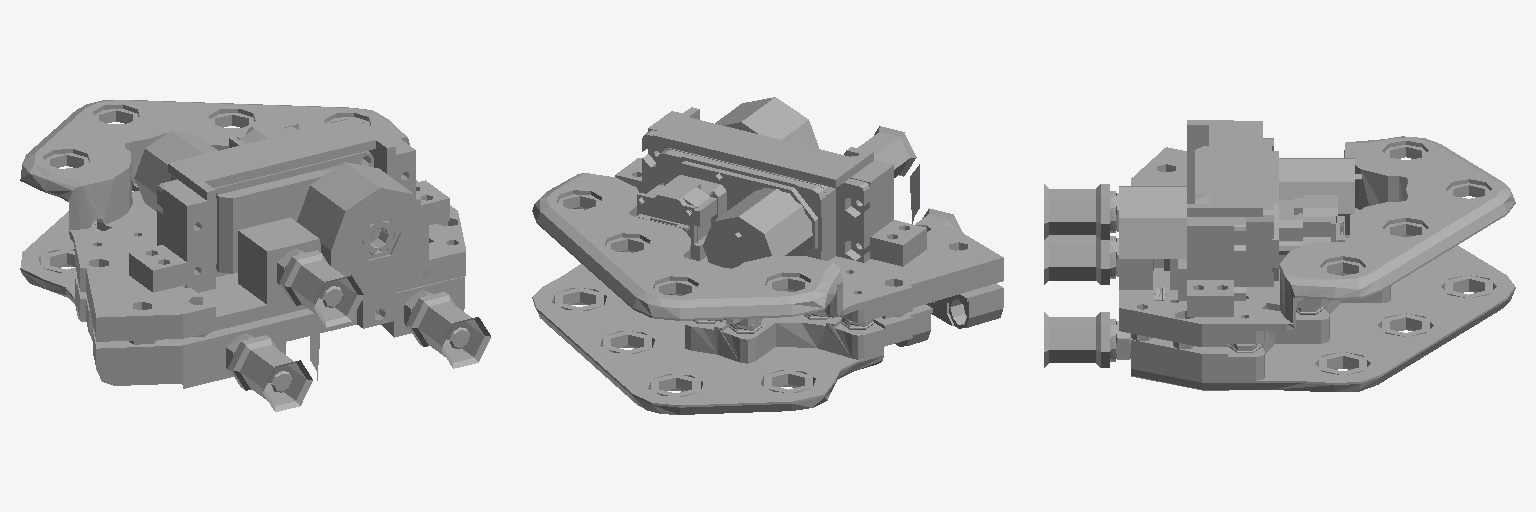
The robot description file, URDF, robot "complete_soft_hand":
<?xml version="1.0" ?>
<!-- =================================================================================== -->
<!-- |    This document was autogenerated by xacro from ../robot/hand_in_world.urdf.xacro | -->
<!-- |    EDITING THIS FILE BY HAND IS NOT RECOMMENDED                                 | -->
<!-- =================================================================================== -->
<robot name="complete_soft_hand" xmlns:xacro="http://ros.org/wiki/xacro">
  <material name="LightGrey">
    <color rgba="0.7 0.7 0.7 1.0"/>
  </material>
  <material name="DarkGrey">
    <color rgba="0.4 0.4 0.4 1.0"/>
  </material>
  <material name="Black">
    <color rgba="0.0 0.0 0.0 1.0"/>
  </material>
  <material name="DarkGolden">
    <color rgba="0.4 0.4 0.3 1.0"/>
  </material>
  <material name="Blue">
    <color rgba="0.0 0.0 0.8 0.9"/>
  </material>
  <material name="LightBlue">
    <color rgba="0.0 0.4 1.0 0.5"/>
  </material>
  <link name="world">
    <!--     <visual>
      <origin xyz="0 0 0" rpy="0 0 0"/>
      <geometry>
        <box size="1 1 1.0"/>
      </geometry>
    </visual> -->
  </link>
  <joint name="hand_palm_joint" type="fixed">
    <origin rpy="0 0 0" xyz="0 0 0"/>
    <parent link="world"/>
    <child link="hand_palm_link"/>
    <!-- <axis xyz="0 1 0" /> -->
    <!-- <limit lower="${-90*pi/180}" upper="${90*pi/180}" effort="${effort}" velocity="${velocity}"/> -->
  </joint>
  <link name="hand_palm_link">
    <visual>
      <origin rpy="0 0 0" xyz="0 0 0"/>
      <geometry>
        <!-- <mesh filename="package://complete_soft_hand/meshes/palm_hand.stl" scale=" .001 .001 .001" /> -->
        <mesh filename="package://complete_soft_hand/meshes/palm_hand2.stl" scale=" .001 .001 .001"/>
      </geometry>
      <material name="LightGrey"/>
    </visual>
  </link>
  <joint name="hand_thumb_abd_joint" type="revolute">
    <origin rpy="0 0 -0.43633181" xyz="-0.0418769 0.0538740 -0.00691972 "/>
    <parent link="hand_palm_link"/>
    <child link="hand_thumb_knuckle_link"/>
    <axis xyz="0 1 0"/>
    <limit effort="100" lower="-1.57079632679" upper="0.0" velocity="100"/>
  </joint>
  <link name="hand_thumb_knuckle_link">
    <visual>
      <origin rpy="0 0 0" xyz="0 0 0"/>
      <geometry>
        <mesh filename="package://complete_soft_hand/meshes/phalanx_thumb_injection.stl" scale=" .001 .001 .001"/>
      </geometry>
      <material name="DarkGolden"/>
    </visual>
  </link>
  <joint name="hand_thumb_inner_joint " type="revolute">
    <origin rpy="-1.9974238811 0 0" xyz="-0.0225 0 -0.0033"/>
    <parent link="hand_thumb_knuckle_link"/>
    <child link="hand_thumb_inner_link  "/>
    <axis xyz="0 1 0"/>
    <limit effort="100" lower="0.0" upper="0.785398163397" velocity="100"/>
  </joint>
  <link name="hand_thumb_inner_link  "> 
		</link>
  <joint name="hand_thumb_inner_joint" type="revolute">
    <origin rpy="0 0 0" xyz="-0.013 0 0"/>
    <parent link="hand_thumb_inner_link  "/>
    <child link="hand_thumb_proximal_link"/>
    <axis xyz="0 1 0"/>
    <mimic joint="hand_thumb_inner_joint " multiplier="1"/>
    <limit effort="100" lower="0.0" upper="0.785398163397" velocity="100"/>
  </joint>
  <link name="hand_thumb_proximal_link">
    <visual>
      <origin rpy="0 0 0" xyz="0 0 0"/>
      <geometry>
        <mesh filename="package://complete_soft_hand/meshes/phalanx_short_injection.stl" scale=" .001 .001 .001"/>
      </geometry>
      <material name="DarkGolden"/>
    </visual>
  </link>
  <joint name="hand_thumb_middle_joint  " type="revolute">
    <origin rpy="0 0 0" xyz="-0.009 0 0"/>
    <parent link="hand_thumb_proximal_link"/>
    <child link="hand_thumb_fake_link2"/>
    <axis xyz="0 1 0"/>
    <limit effort="100" lower="0.0" upper="0.785398163397" velocity="100"/>
  </joint>
  <link name="hand_thumb_fake_link2"> 
		</link>
  <joint name="hand_thumb_middle_joint" type="revolute">
    <origin rpy="0 0 0" xyz="-0.013 0 0"/>
    <parent link="hand_thumb_fake_link2"/>
    <child link="hand_thumb_middle_link"/>
    <axis xyz="0 1 0"/>
    <mimic joint="hand_thumb_middle_joint  " multiplier="1"/>
    <limit effort="100" lower="0.0" upper="0.785398163397" velocity="100"/>
  </joint>
  <link name="hand_thumb_middle_link">
    <visual>
      <origin rpy="0 0 0" xyz="0 0 0"/>
      <geometry>
        <mesh filename="package://complete_soft_hand/meshes/phalanx_short_injection.stl" scale=" .001 .001 .001"/>
      </geometry>
      <material name="DarkGolden"/>
    </visual>
  </link>
  <joint name="hand_thumb_outer_joint " type="revolute">
    <origin rpy="0 0 0" xyz="-0.009 0 0.0"/>
    <parent link="hand_thumb_middle_link"/>
    <child link="hand_thumb_fake_link3"/>
    <axis xyz="0 1 0"/>
    <limit effort="100" lower="0.0" upper="0.785398163397" velocity="100"/>
  </joint>
  <link name="hand_thumb_fake_link3"> 
		</link>
  <joint name="hand_thumb_outer_joint" type="revolute">
    <origin rpy="0 0 0" xyz="-0.013 0 0"/>
    <parent link="hand_thumb_fake_link3"/>
    <child link="hand_thumb_distal_link"/>
    <axis xyz="0 1 0"/>
    <mimic joint="hand_thumb_outer_joint " multiplier="1"/>
    <limit effort="100" lower="0.0" upper="0.785398163397" velocity="100"/>
  </joint>
  <link name="hand_thumb_distal_link">
    <visual>
      <origin rpy="0 0 0" xyz="0 0 0"/>
      <geometry>
        <mesh filename="package://complete_soft_hand/meshes/phalanx_distal_out_no_ati.stl" scale=" .001 .001 .001"/>
      </geometry>
      <material name="DarkGolden"/>
    </visual>
  </link>
  <joint name="hand_index_abd_joint" type="revolute">
    <origin rpy="3.14159265359 0 -1.2217304764" xyz="-0.0285 0.0943918 0.00205"/>
    <parent link="hand_palm_link"/>
    <child link="hand_index_knuckle_link"/>
    <axis xyz="0 0 1"/>
    <limit effort="100" lower="-0.523598775598" upper="0.785398163397" velocity="100"/>
  </joint>
  <link name="hand_index_knuckle_link">
    <visual>
      <origin rpy="0 0 0" xyz="0 0 0"/>
      <geometry>
        <mesh filename="package://complete_soft_hand/meshes/phalanx_prossimal_injection.stl" scale=" .001 .001 .001"/>
      </geometry>
      <material name="DarkGolden"/>
    </visual>
  </link>
  <joint name="hand_index_inner_joint " type="revolute">
    <origin rpy="0 0 0" xyz="-0.009 0 0"/>
    <parent link="hand_index_knuckle_link"/>
    <child link="hand_index_inner_link  "/>
    <axis xyz="0 1 0"/>
    <limit effort="100" lower="0.0" upper="0.785398163397" velocity="100"/>
  </joint>
  <link name="hand_index_inner_link  "> 
		</link>
  <joint name="hand_index_inner_joint" type="revolute">
    <origin rpy="0 0 0" xyz="-0.013 0 0"/>
    <parent link="hand_index_inner_link  "/>
    <child link="hand_index_proximal_link"/>
    <axis xyz="0 1 0"/>
    <mimic joint="hand_index_inner_joint " multiplier="1"/>
    <limit effort="100" lower="0.0" upper="0.785398163397" velocity="100"/>
  </joint>
  <link name="hand_index_proximal_link">
    <visual>
      <origin rpy="0 0 0" xyz="0 0 0"/>
      <geometry>
        <mesh filename="package://complete_soft_hand/meshes/phalanx_short_injection.stl" scale=" .001 .001 .001"/>
      </geometry>
      <material name="DarkGolden"/>
    </visual>
  </link>
  <joint name="hand_index_middle_joint  " type="revolute">
    <origin rpy="0 0 0" xyz="-0.009 0 0"/>
    <parent link="hand_index_proximal_link"/>
    <child link="hand_index_fake_link2"/>
    <axis xyz="0 1 0"/>
    <limit effort="100" lower="0.0" upper="0.785398163397" velocity="100"/>
  </joint>
  <link name="hand_index_fake_link2"> 
		</link>
  <joint name="hand_index_middle_joint" type="revolute">
    <origin rpy="0 0 0" xyz="-0.013 0 0"/>
    <parent link="hand_index_fake_link2"/>
    <child link="hand_index_middle_link"/>
    <axis xyz="0 1 0"/>
    <mimic joint="hand_index_middle_joint  " multiplier="1"/>
    <limit effort="100" lower="0.0" upper="0.785398163397" velocity="100"/>
  </joint>
  <link name="hand_index_middle_link">
    <visual>
      <origin rpy="0 0 0" xyz="0 0 0"/>
      <geometry>
        <mesh filename="package://complete_soft_hand/meshes/phalanx_short_injection.stl" scale=" .001 .001 .001"/>
      </geometry>
      <material name="DarkGolden"/>
    </visual>
  </link>
  <joint name="hand_index_outer_joint " type="revolute">
    <origin rpy="0 0 0" xyz="-0.009 0 0"/>
    <parent link="hand_index_middle_link"/>
    <child link="hand_index_fake_link3"/>
    <axis xyz="0 1 0"/>
    <limit effort="100" lower="0.0" upper="0.785398163397" velocity="100"/>
  </joint>
  <link name="hand_index_fake_link3"> 
		</link>
  <joint name="hand_index_outer_joint" type="revolute">
    <origin rpy="0 0 0" xyz="-0.013 0 0"/>
    <parent link="hand_index_fake_link3"/>
    <child link="hand_index_distal_link"/>
    <axis xyz="0 1 0"/>
    <mimic joint="hand_index_outer_joint " multiplier="1"/>
    <limit effort="100" lower="0.0" upper="0.785398163397" velocity="100"/>
  </joint>
  <link name="hand_index_distal_link">
    <visual>
      <origin rpy="0 0 0" xyz="0 0 0"/>
      <geometry>
        <mesh filename="package://complete_soft_hand/meshes/phalanx_distal_out_no_ati.stl" scale=" .001 .001 .001"/>
      </geometry>
      <material name="DarkGolden"/>
    </visual>
  </link>
  <joint name="hand_middle_abd_joint" type="revolute">
    <origin rpy="3.14159265359 0 -1.57079632679" xyz="-0.009 0.107892 0.00205"/>
    <parent link="hand_palm_link"/>
    <child link="hand_middle_knuckle_link"/>
    <axis xyz="0 0 1"/>
    <limit effort="100" lower="-0.523598775598" upper="0.785398163397" velocity="100"/>
  </joint>
  <link name="hand_middle_knuckle_link">
    <visual>
      <origin rpy="0 0 0" xyz="0 0 0"/>
      <geometry>
        <mesh filename="package://complete_soft_hand/meshes/phalanx_prossimal_injection.stl" scale=" .001 .001 .001"/>
      </geometry>
      <material name="DarkGolden"/>
    </visual>
  </link>
  <joint name="hand_middle_inner_joint " type="revolute">
    <origin rpy="0 0 0" xyz="-0.009 0 0"/>
    <parent link="hand_middle_knuckle_link"/>
    <child link="hand_middle_inner_link  "/>
    <axis xyz="0 1 0"/>
    <limit effort="100" lower="0.0" upper="0.785398163397" velocity="100"/>
  </joint>
  <link name="hand_middle_inner_link  "> 
		</link>
  <joint name="hand_middle_inner_joint" type="revolute">
    <origin rpy="0 0 0" xyz="-0.013 0 0"/>
    <parent link="hand_middle_inner_link  "/>
    <child link="hand_middle_proximal_link"/>
    <axis xyz="0 1 0"/>
    <mimic joint="hand_middle_inner_joint " multiplier="1"/>
    <limit effort="100" lower="0.0" upper="0.785398163397" velocity="100"/>
  </joint>
  <link name="hand_middle_proximal_link">
    <visual>
      <origin rpy="0 0 0" xyz="0 0 0"/>
      <geometry>
        <mesh filename="package://complete_soft_hand/meshes/phalanx_short_injection.stl" scale=" .001 .001 .001"/>
      </geometry>
      <material name="DarkGolden"/>
    </visual>
  </link>
  <joint name="hand_middle_middle_joint  " type="revolute">
    <origin rpy="0 0 0" xyz="-0.009 0 0"/>
    <parent link="hand_middle_proximal_link"/>
    <child link="hand_middle_fake_link2"/>
    <axis xyz="0 1 0"/>
    <limit effort="100" lower="0.0" upper="0.785398163397" velocity="100"/>
  </joint>
  <link name="hand_middle_fake_link2"> 
		</link>
  <joint name="hand_middle_middle_joint" type="revolute">
    <origin rpy="0 0 0" xyz="-0.013 0 0"/>
    <parent link="hand_middle_fake_link2"/>
    <child link="hand_middle_middle_link"/>
    <axis xyz="0 1 0"/>
    <mimic joint="hand_middle_middle_joint  " multiplier="1"/>
    <limit effort="100" lower="0.0" upper="0.785398163397" velocity="100"/>
  </joint>
  <link name="hand_middle_middle_link">
    <visual>
      <origin rpy="0 0 0" xyz="0 0 0"/>
      <geometry>
        <mesh filename="package://complete_soft_hand/meshes/phalanx_short_injection.stl" scale=" .001 .001 .001"/>
      </geometry>
      <material name="DarkGolden"/>
    </visual>
  </link>
  <joint name="hand_middle_outer_joint " type="revolute">
    <origin rpy="0 0 0" xyz="-0.009 0 0"/>
    <parent link="hand_middle_middle_link"/>
    <child link="hand_middle_fake_link3"/>
    <axis xyz="0 1 0"/>
    <limit effort="100" lower="0.0" upper="0.785398163397" velocity="100"/>
  </joint>
  <link name="hand_middle_fake_link3"> 
		</link>
  <joint name="hand_middle_outer_joint" type="revolute">
    <origin rpy="0 0 0" xyz="-0.013 0 0"/>
    <parent link="hand_middle_fake_link3"/>
    <child link="hand_middle_distal_link"/>
    <axis xyz="0 1 0"/>
    <mimic joint="hand_middle_outer_joint " multiplier="1"/>
    <limit effort="100" lower="0.0" upper="0.785398163397" velocity="100"/>
  </joint>
  <link name="hand_middle_distal_link">
    <visual>
      <origin rpy="0 0 0" xyz="0 0 0"/>
      <geometry>
        <mesh filename="package://complete_soft_hand/meshes/phalanx_distal_out_no_ati.stl" scale=" .001 .001 .001"/>
      </geometry>
      <material name="DarkGolden"/>
    </visual>
  </link>
  <joint name="hand_ring_abd_joint" type="revolute">
    <origin rpy="3.14159265359 0 -1.74532925199" xyz="0.0105 0.0943918 0.00205"/>
    <parent link="hand_palm_link"/>
    <child link="hand_ring_knuckle_link"/>
    <axis xyz="0 0 1"/>
    <limit effort="100" lower="-0.523598775598" upper="0.785398163397" velocity="100"/>
  </joint>
  <link name="hand_ring_knuckle_link">
    <visual>
      <origin rpy="0 0 0" xyz="0 0 0"/>
      <geometry>
        <mesh filename="package://complete_soft_hand/meshes/phalanx_prossimal_injection.stl" scale=" .001 .001 .001"/>
      </geometry>
      <material name="DarkGolden"/>
    </visual>
  </link>
  <joint name="hand_ring_inner_joint " type="revolute">
    <origin rpy="0 0 0" xyz="-0.009 0 0"/>
    <parent link="hand_ring_knuckle_link"/>
    <child link="hand_ring_inner_link  "/>
    <axis xyz="0 1 0"/>
    <limit effort="100" lower="0.0" upper="0.785398163397" velocity="100"/>
  </joint>
  <link name="hand_ring_inner_link  "> 
		</link>
  <joint name="hand_ring_inner_joint" type="revolute">
    <origin rpy="0 0 0" xyz="-0.013 0 0"/>
    <parent link="hand_ring_inner_link  "/>
    <child link="hand_ring_proximal_link"/>
    <axis xyz="0 1 0"/>
    <mimic joint="hand_ring_inner_joint " multiplier="1"/>
    <limit effort="100" lower="0.0" upper="0.785398163397" velocity="100"/>
  </joint>
  <link name="hand_ring_proximal_link">
    <visual>
      <origin rpy="0 0 0" xyz="0 0 0"/>
      <geometry>
        <mesh filename="package://complete_soft_hand/meshes/phalanx_short_injection.stl" scale=" .001 .001 .001"/>
      </geometry>
      <material name="DarkGolden"/>
    </visual>
  </link>
  <joint name="hand_ring_middle_joint  " type="revolute">
    <origin rpy="0 0 0" xyz="-0.009 0 0"/>
    <parent link="hand_ring_proximal_link"/>
    <child link="hand_ring_fake_link2"/>
    <axis xyz="0 1 0"/>
    <limit effort="100" lower="0.0" upper="0.785398163397" velocity="100"/>
  </joint>
  <link name="hand_ring_fake_link2"> 
		</link>
  <joint name="hand_ring_middle_joint" type="revolute">
    <origin rpy="0 0 0" xyz="-0.013 0 0"/>
    <parent link="hand_ring_fake_link2"/>
    <child link="hand_ring_middle_link"/>
    <axis xyz="0 1 0"/>
    <mimic joint="hand_ring_middle_joint  " multiplier="1"/>
    <limit effort="100" lower="0.0" upper="0.785398163397" velocity="100"/>
  </joint>
  <link name="hand_ring_middle_link">
    <visual>
      <origin rpy="0 0 0" xyz="0 0 0"/>
      <geometry>
        <mesh filename="package://complete_soft_hand/meshes/phalanx_short_injection.stl" scale=" .001 .001 .001"/>
      </geometry>
      <material name="DarkGolden"/>
    </visual>
  </link>
  <joint name="hand_ring_outer_joint " type="revolute">
    <origin rpy="0 0 0" xyz="-0.009 0 0"/>
    <parent link="hand_ring_middle_link"/>
    <child link="hand_ring_fake_link3"/>
    <axis xyz="0 1 0"/>
    <limit effort="100" lower="0.0" upper="0.785398163397" velocity="100"/>
  </joint>
  <link name="hand_ring_fake_link3"> 
		</link>
  <joint name="hand_ring_outer_joint" type="revolute">
    <origin rpy="0 0 0" xyz="-0.013 0 0"/>
    <parent link="hand_ring_fake_link3"/>
    <child link="hand_ring_distal_link"/>
    <axis xyz="0 1 0"/>
    <mimic joint="hand_ring_outer_joint " multiplier="1"/>
    <limit effort="100" lower="0.0" upper="0.785398163397" velocity="100"/>
  </joint>
  <link name="hand_ring_distal_link">
    <visual>
      <origin rpy="0 0 0" xyz="0 0 0"/>
      <geometry>
        <mesh filename="package://complete_soft_hand/meshes/phalanx_distal_out_no_ati.stl" scale=" .001 .001 .001"/>
      </geometry>
      <material name="DarkGolden"/>
    </visual>
  </link>
  <joint name="hand_little_abd_joint" type="revolute">
    <origin rpy="3.14159265359 0 -1.91986217719" xyz="0.030 0.0808918 0.00205"/>
    <parent link="hand_palm_link"/>
    <child link="hand_little_knuckle_link"/>
    <axis xyz="0 0 1"/>
    <limit effort="100" lower="-0.523598775598" upper="0.785398163397" velocity="100"/>
  </joint>
  <link name="hand_little_knuckle_link">
    <visual>
      <origin rpy="0 0 0" xyz="0 0 0"/>
      <geometry>
        <mesh filename="package://complete_soft_hand/meshes/phalanx_prossimal_injection.stl" scale=" .001 .001 .001"/>
      </geometry>
      <material name="DarkGolden"/>
    </visual>
  </link>
  <joint name="hand_little_inner_joint " type="revolute">
    <origin rpy="0 0 0" xyz="-0.009 0 0"/>
    <parent link="hand_little_knuckle_link"/>
    <child link="hand_little_inner_link  "/>
    <axis xyz="0 1 0"/>
    <limit effort="100" lower="0.0" upper="0.785398163397" velocity="100"/>
  </joint>
  <link name="hand_little_inner_link  "> 
		</link>
  <joint name="hand_little_inner_joint" type="revolute">
    <origin rpy="0 0 0" xyz="-0.013 0 0"/>
    <parent link="hand_little_inner_link  "/>
    <child link="hand_little_proximal_link"/>
    <axis xyz="0 1 0"/>
    <mimic joint="hand_little_inner_joint " multiplier="1"/>
    <limit effort="100" lower="0.0" upper="0.785398163397" velocity="100"/>
  </joint>
  <link name="hand_little_proximal_link">
    <visual>
      <origin rpy="0 0 0" xyz="0 0 0"/>
      <geometry>
        <mesh filename="package://complete_soft_hand/meshes/phalanx_short_injection.stl" scale=" .001 .001 .001"/>
      </geometry>
      <material name="DarkGolden"/>
    </visual>
  </link>
  <joint name="hand_little_middle_joint  " type="revolute">
    <origin rpy="0 0 0" xyz="-0.009 0 0"/>
    <parent link="hand_little_proximal_link"/>
    <child link="hand_little_fake_link2"/>
    <axis xyz="0 1 0"/>
    <limit effort="100" lower="0.0" upper="0.785398163397" velocity="100"/>
  </joint>
  <link name="hand_little_fake_link2"> 
		</link>
  <joint name="hand_little_middle_joint" type="revolute">
    <origin rpy="0 0 0" xyz="-0.013 0 0"/>
    <parent link="hand_little_fake_link2"/>
    <child link="hand_little_middle_link"/>
    <axis xyz="0 1 0"/>
    <mimic joint="hand_little_middle_joint  " multiplier="1"/>
    <limit effort="100" lower="0.0" upper="0.785398163397" velocity="100"/>
  </joint>
  <link name="hand_little_middle_link">
    <visual>
      <origin rpy="0 0 0" xyz="0 0 0"/>
      <geometry>
        <mesh filename="package://complete_soft_hand/meshes/phalanx_short_injection.stl" scale=" .001 .001 .001"/>
      </geometry>
      <material name="DarkGolden"/>
    </visual>
  </link>
  <joint name="hand_little_outer_joint " type="revolute">
    <origin rpy="0 0 0" xyz="-0.009 0 0"/>
    <parent link="hand_little_middle_link"/>
    <child link="hand_little_fake_link3"/>
    <axis xyz="0 1 0"/>
    <limit effort="100" lower="0.0" upper="0.785398163397" velocity="100"/>
  </joint>
  <link name="hand_little_fake_link3"> 
		</link>
  <joint name="hand_little_outer_joint" type="revolute">
    <origin rpy="0 0 0" xyz="-0.013 0 0"/>
    <parent link="hand_little_fake_link3"/>
    <child link="hand_little_distal_link"/>
    <axis xyz="0 1 0"/>
    <mimic joint="hand_little_outer_joint " multiplier="1"/>
    <limit effort="100" lower="0.0" upper="0.785398163397" velocity="100"/>
  </joint>
  <link name="hand_little_distal_link">
    <visual>
      <origin rpy="0 0 0" xyz="0 0 0"/>
      <geometry>
        <mesh filename="package://complete_soft_hand/meshes/phalanx_distal_out_no_ati.stl" scale=" .001 .001 .001"/>
      </geometry>
      <material name="DarkGolden"/>
    </visual>
  </link>
</robot>

--- Facts derived from the render (not from the file) ---
3 views of the same robot in one strip: view 1: azimuth 30°, elevation 25°; view 2: azimuth 150°, elevation 25°; view 3: azimuth 270°, elevation 25° (orthographic).
Model complete_soft_hand with 37 links and 36 joints (35 revolute, 1 fixed), rooted at world, posed every joint at zero.
Visible links, largest first — view 1: hand_palm_link; view 2: hand_palm_link; view 3: hand_palm_link.
Boxes of the visible links, <box> form: hand_palm_link: <box>20,100,490,411</box>; hand_palm_link: <box>532,97,1003,414</box>; hand_palm_link: <box>1044,120,1515,391</box>.
Size in the robot's own frame: 0.091 by 0.1009 by 0.0369 metres.
1 mesh visuals loaded from 5 distinct referenced files (1 binary STL); not drawn: 20 (reference not matched to a file when rendering).